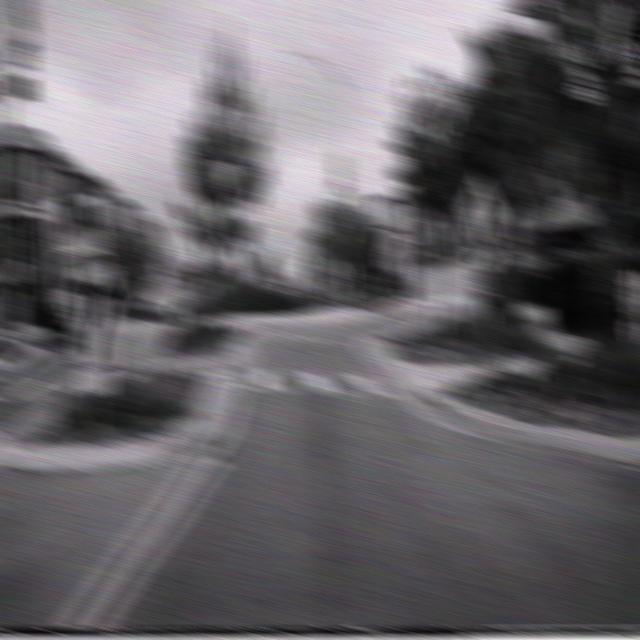pedestrianCrossing: (458, 171, 504, 251), (325, 255, 345, 282)
yield: (210, 158, 241, 202)
